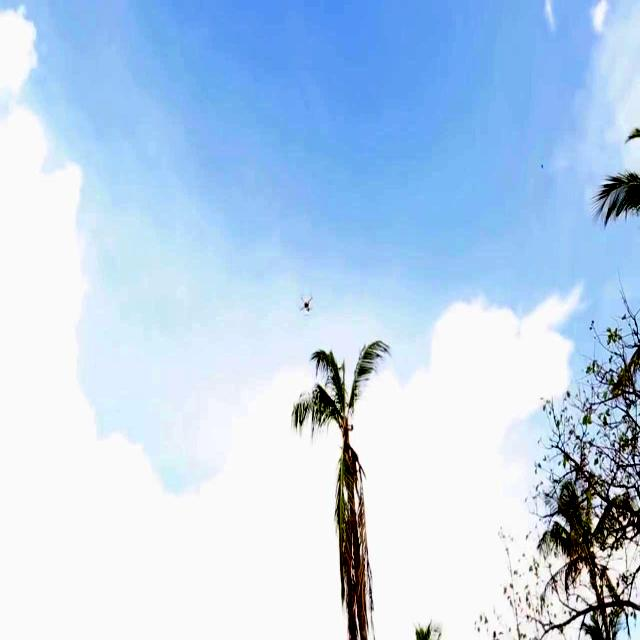drone: (297, 288, 315, 314)
